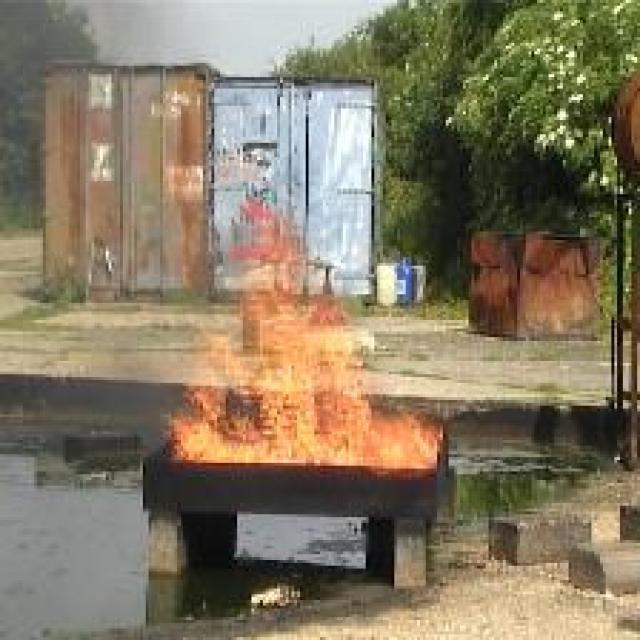Fire: (163, 279, 443, 472)
